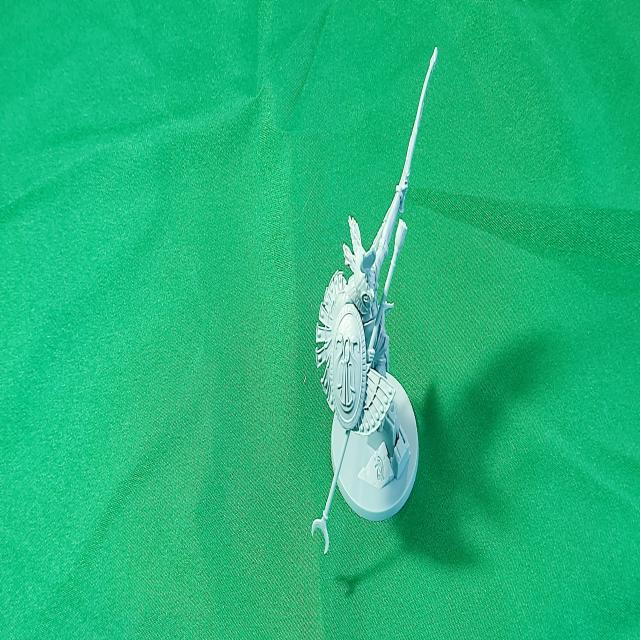isis: (302, 38, 444, 583)
